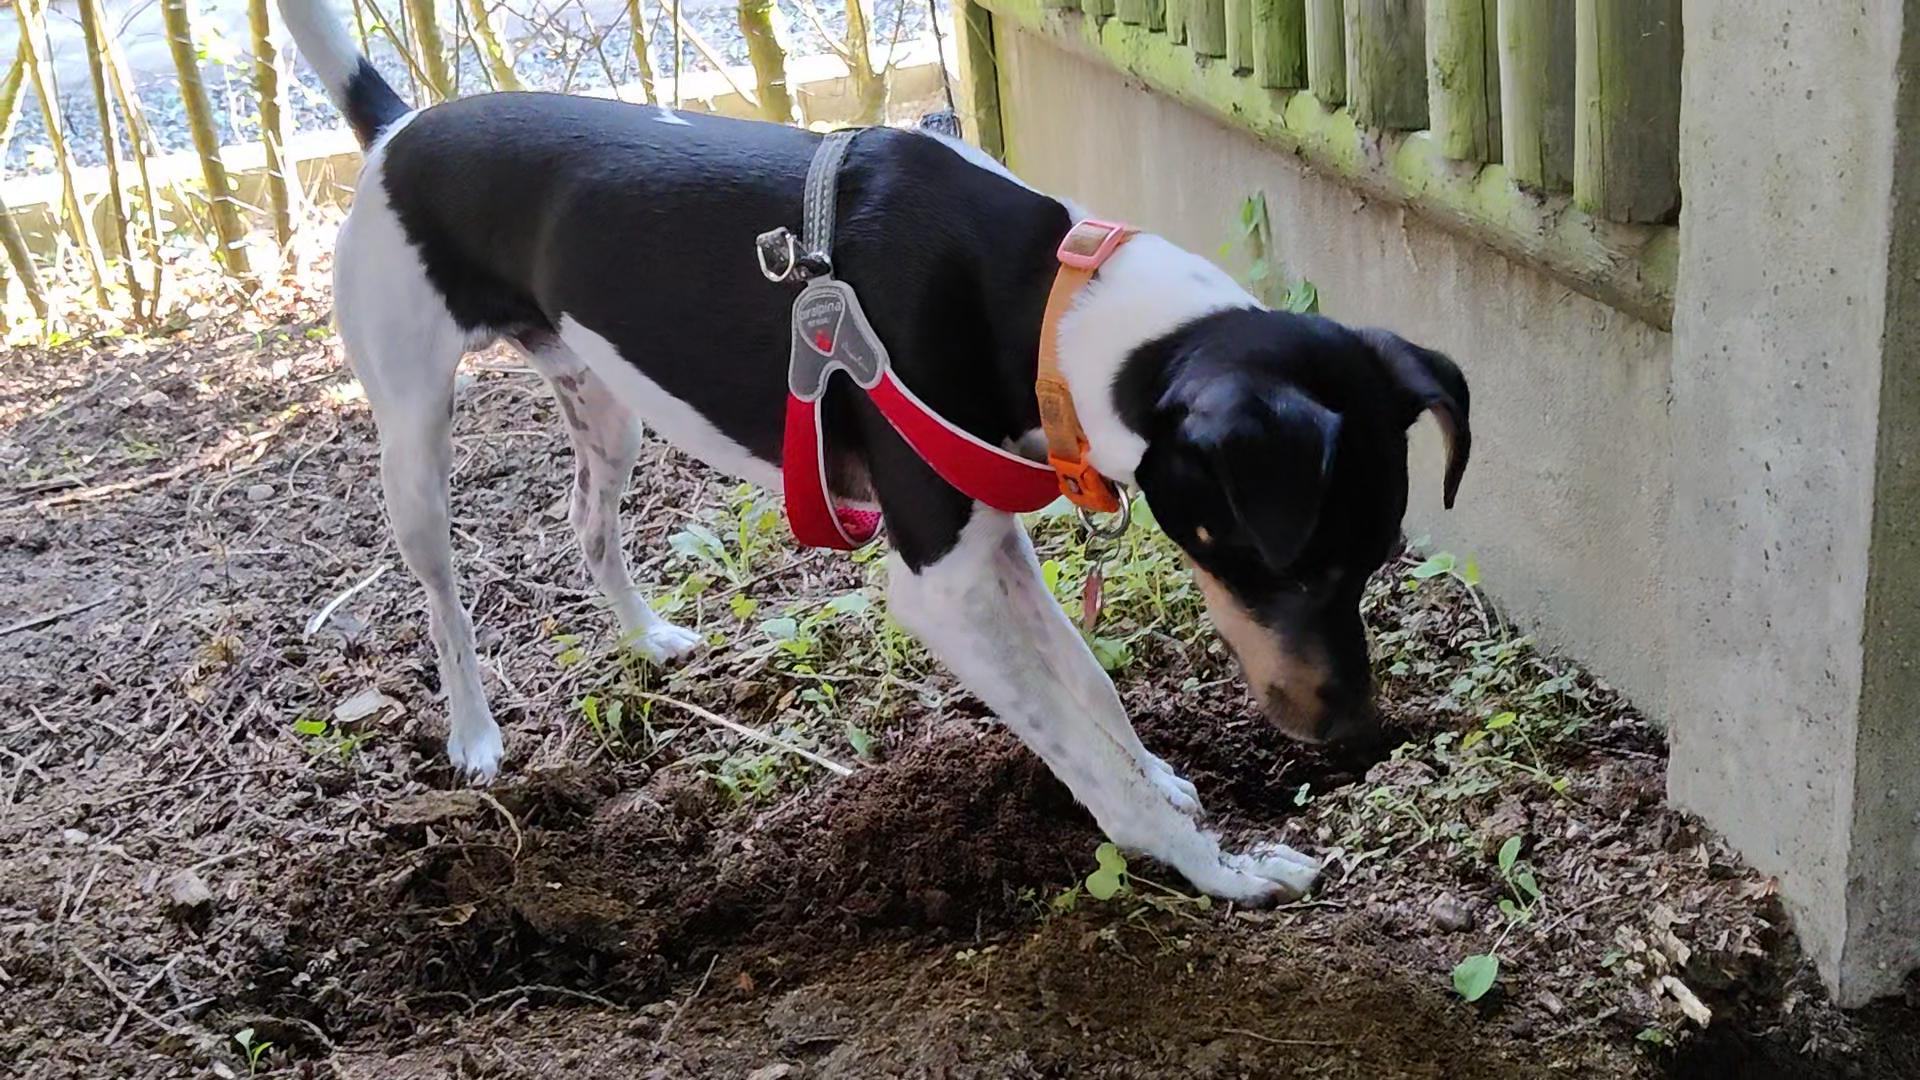Dog: (269, 0, 1478, 931)
